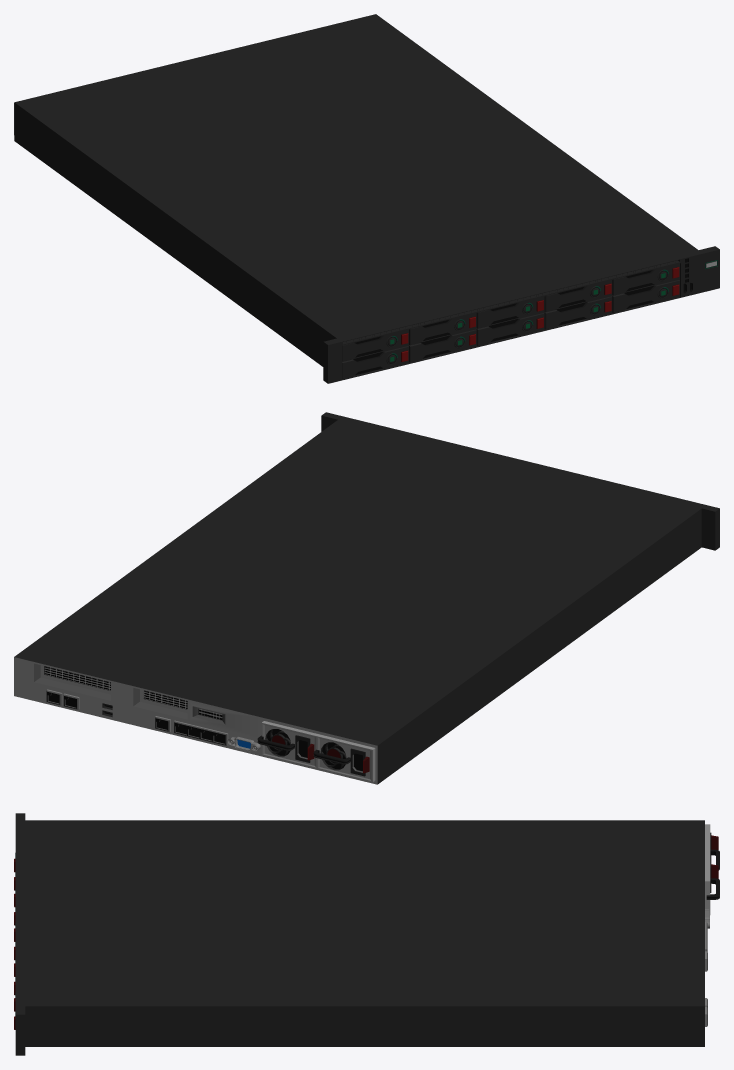
3 views of the same model, one above another, from view 1: azimuth 30°, elevation 25°; view 2: azimuth 150°, elevation 25°; view 3: azimuth 270°, elevation 25° (orthographic). The views are drawn at different scales.
Parts seen in each view (by area): view 1: HPE_DL360_G10; view 2: HPE_DL360_G10; view 3: HPE_DL360_G10.
Boxes of the visible parts, x1,y1,x2,y2 form: HPE_DL360_G10: (14,14,719,383); HPE_DL360_G10: (14,412,719,784); HPE_DL360_G10: (14,813,719,1055).
Bounding box in the file's own units: 470 × 44.5 × 696.
19 materials, 2 textured.
